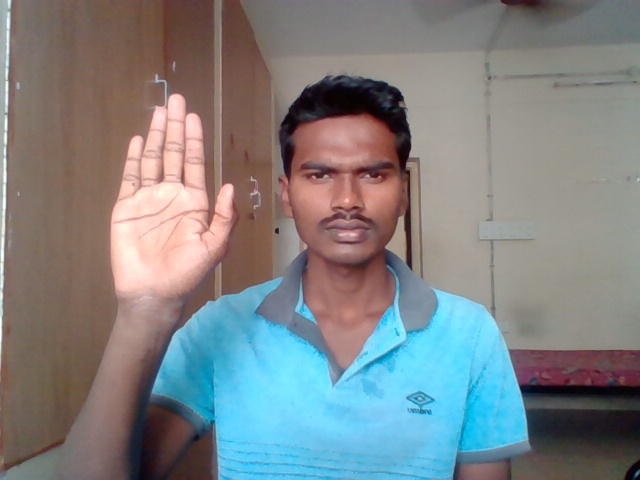Hello: (108, 92, 236, 300)
